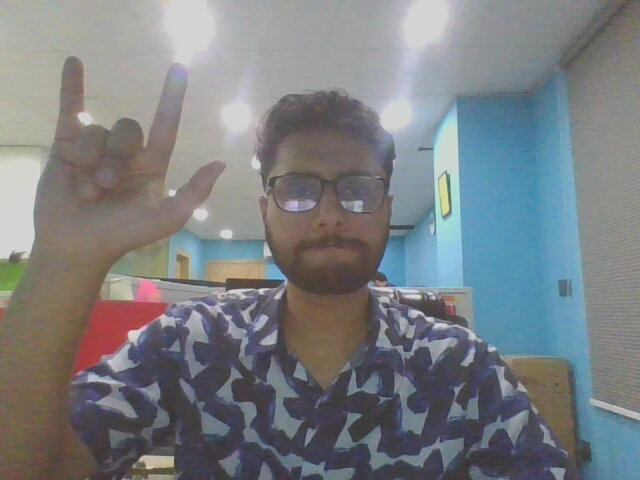iloveyou: (15, 46, 241, 274)
